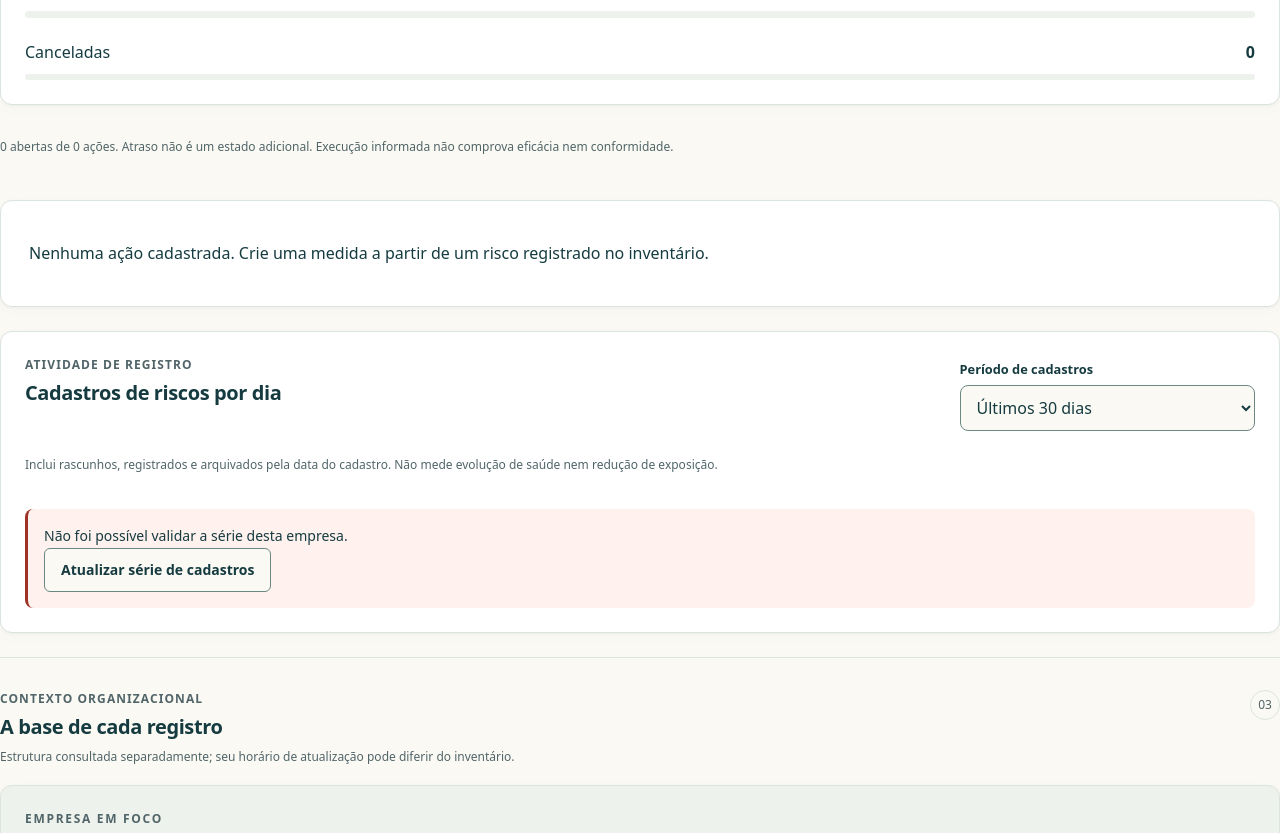
não representa a série de outra empresa como dados válidos e permite nova leitura
(page scrolled)
Click the button "Atualizar série de cadastros" at (158, 570), box x1=44 y1=548 x2=272 y2=592
(page scrolled)
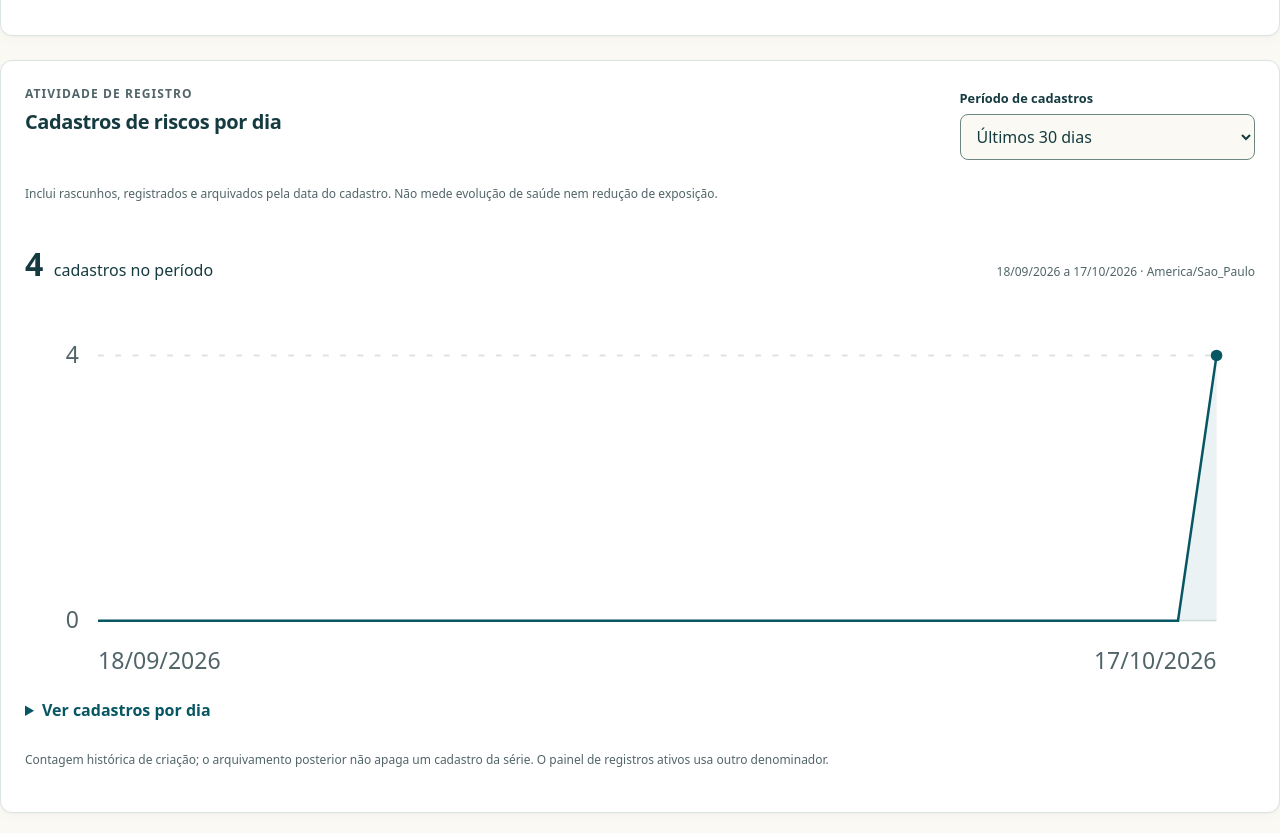
Now the picture named "4 cadastros" is shown, box x1=25 y1=317 x2=1255 y2=682
